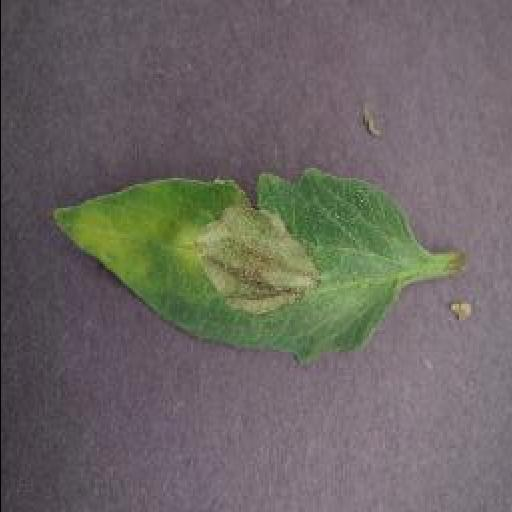disease_tomato: (46, 166, 414, 370)
